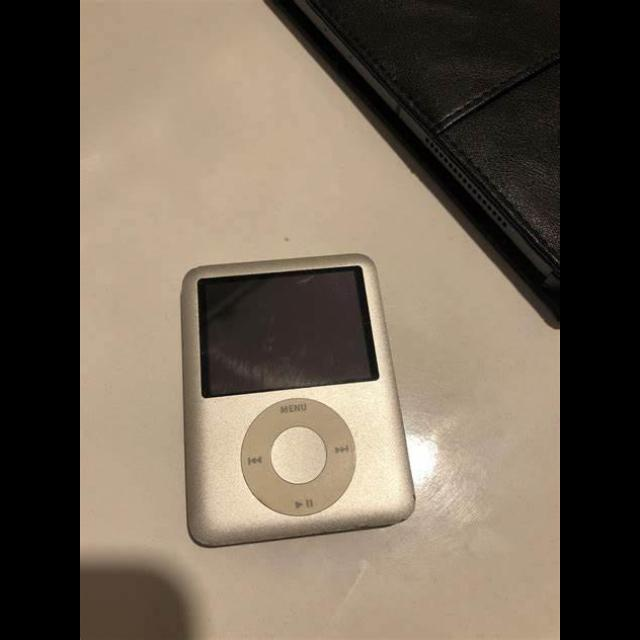Music-Player: (176, 242, 424, 556)
